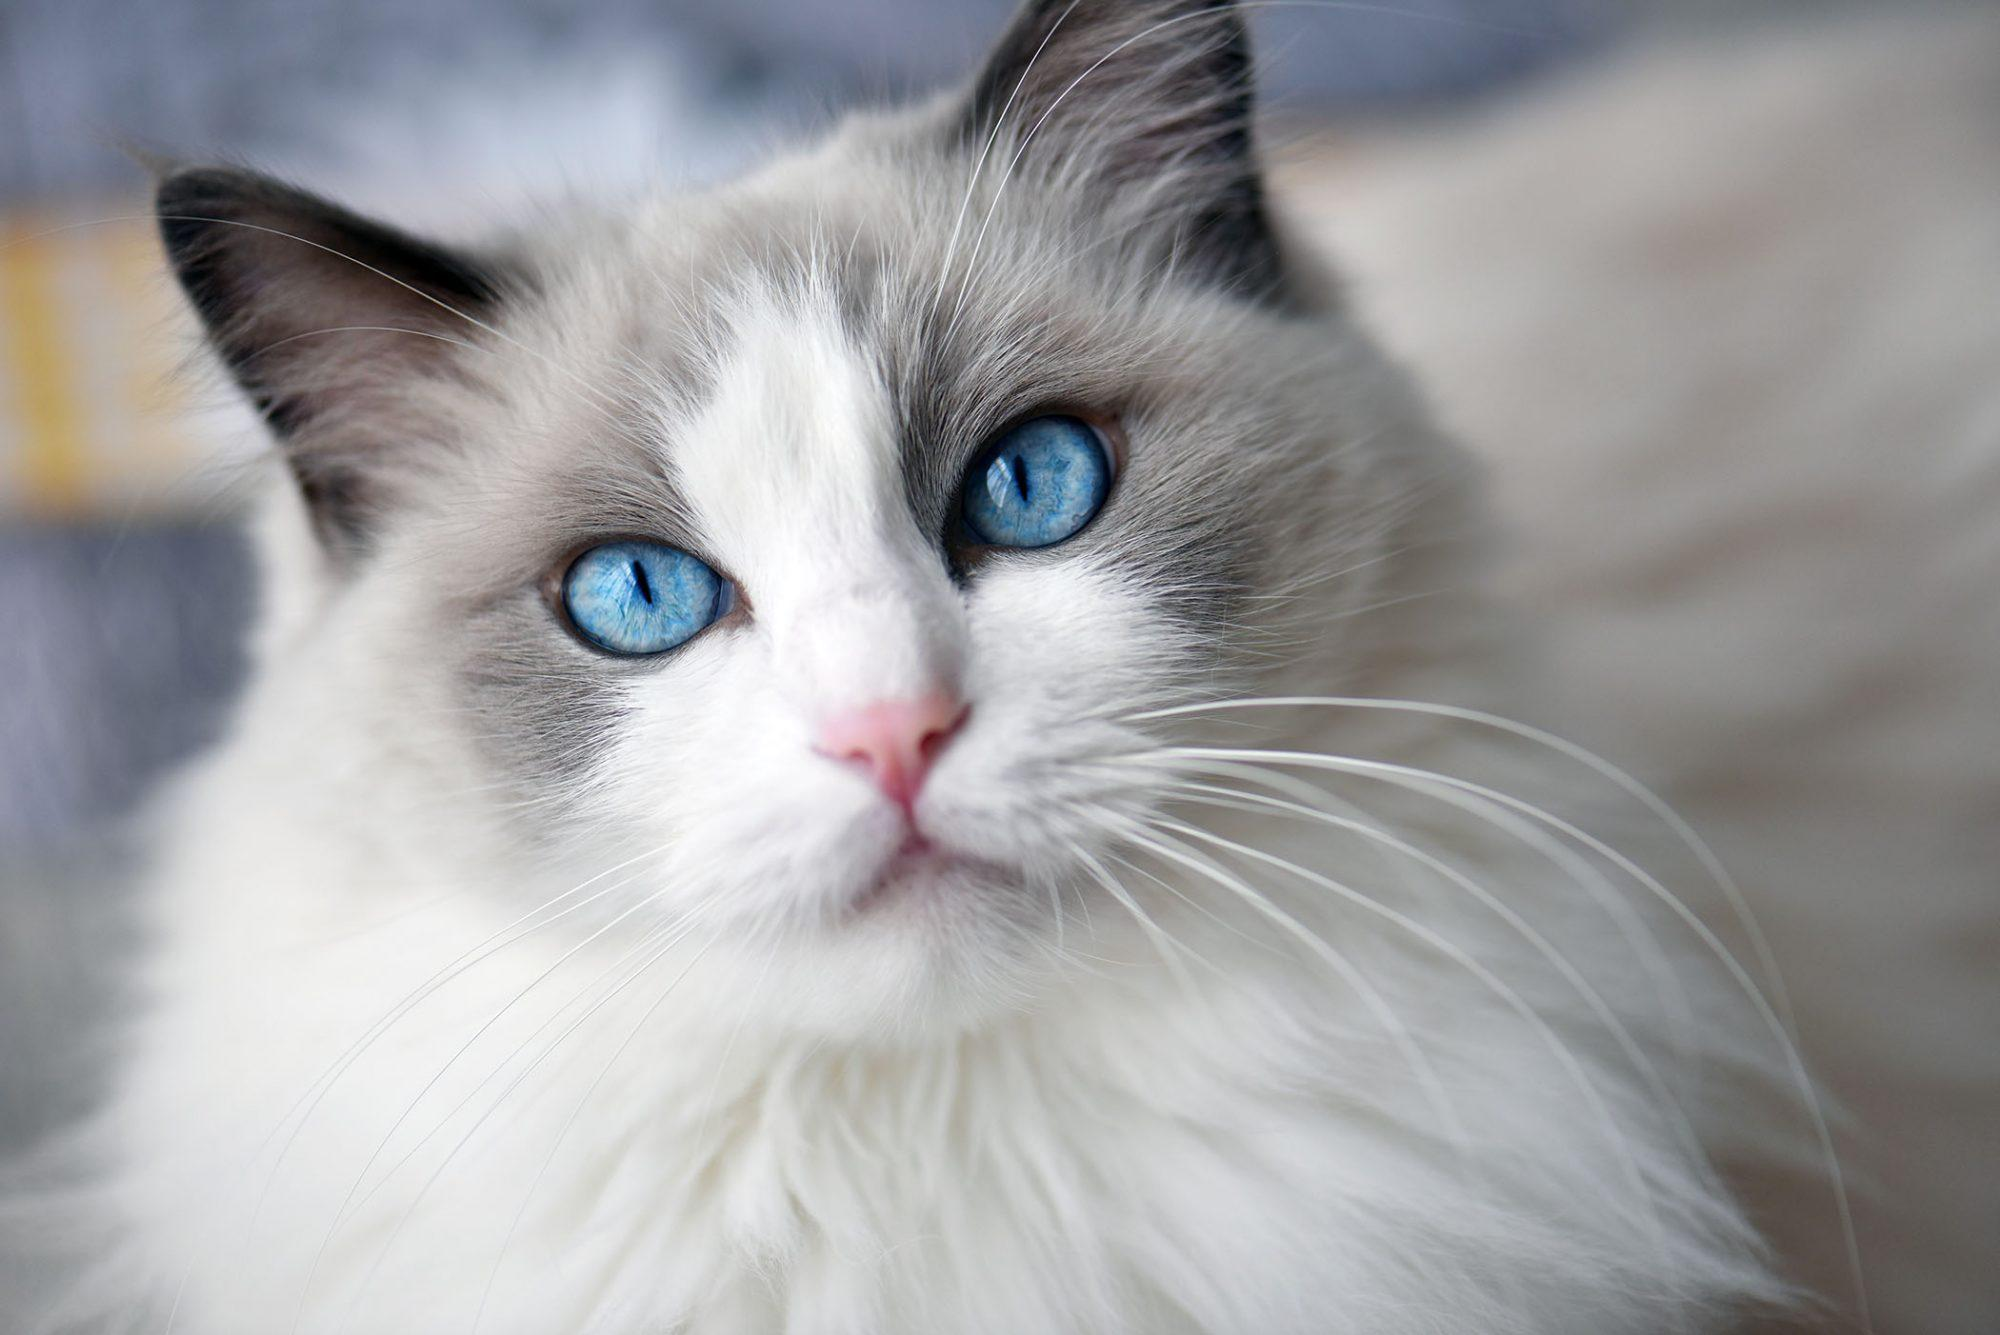ragdoll: (156, 1, 1398, 1107)
